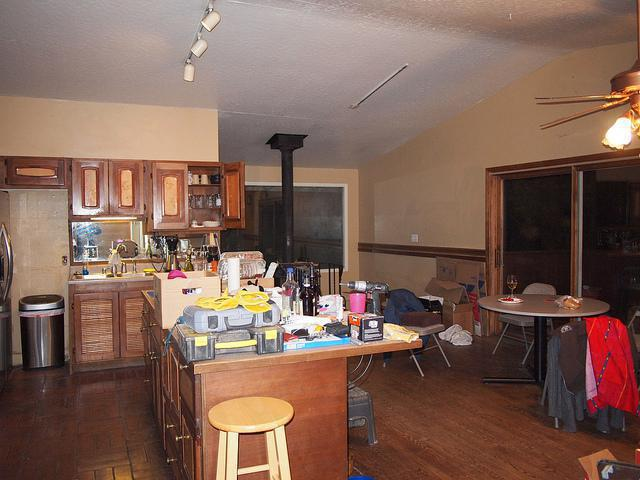Bote de Basura: (20, 293, 64, 368)
Lavaplatos: (92, 233, 147, 281)
